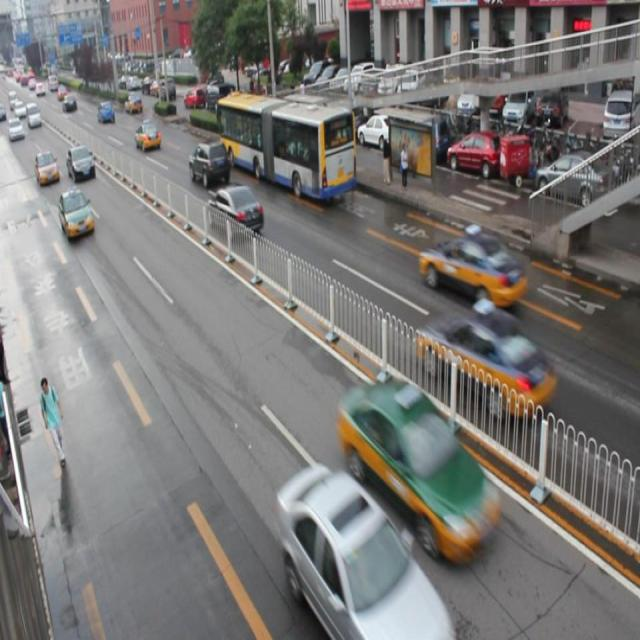car: (276, 466, 450, 640), (339, 380, 501, 566), (416, 296, 556, 422), (420, 227, 528, 312), (207, 186, 263, 235), (59, 188, 96, 242), (188, 140, 228, 185), (66, 146, 95, 182), (134, 120, 160, 152), (35, 150, 60, 183)
van: (216, 90, 356, 202)
